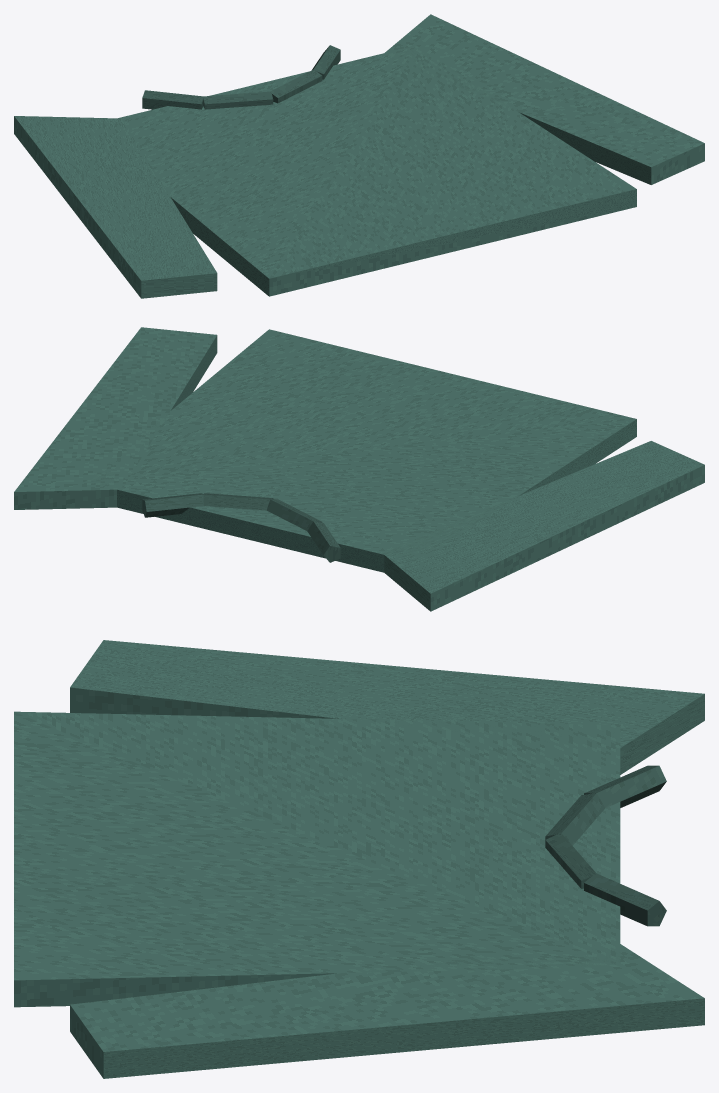
The model's file is rashguard.glb.
3 views of the same model, one above another, from view 1: azimuth 30°, elevation 25°; view 2: azimuth 150°, elevation 25°; view 3: azimuth 270°, elevation 25° (orthographic). The views are drawn at different scales.
Visible parts, largest first — view 1: block_shirt torso, block_sleeve or strap -1, block_sleeve or strap 1, block_bound collar 1, block_bound collar 0, block_bound collar 2, block_bound collar 3; view 2: block_shirt torso, block_sleeve or strap -1, block_sleeve or strap 1, block_bound collar 3, block_bound collar 2, block_bound collar 0, block_bound collar 1; view 3: block_shirt torso, block_sleeve or strap 1, block_sleeve or strap -1, block_bound collar 3, block_bound collar 0, block_bound collar 1, block_bound collar 2.
Boxes of the visible parts, x1=… form: block_shirt torso: x1=118, y1=45, x2=636, y2=296; block_sleeve or strap -1: x1=14, y1=116, x2=217, y2=298; block_sleeve or strap 1: x1=385, y1=14, x2=704, y2=184; block_bound collar 1: x1=203, y1=91, x2=273, y2=109; block_bound collar 0: x1=142, y1=90, x2=203, y2=109; block_bound collar 2: x1=270, y1=69, x2=322, y2=103; block_bound collar 3: x1=312, y1=45, x2=340, y2=79; block_shirt torso: x1=86, y1=329, x2=636, y2=572; block_sleeve or strap -1: x1=382, y1=441, x2=704, y2=611; block_sleeve or strap 1: x1=14, y1=327, x2=217, y2=509; block_bound collar 3: x1=142, y1=493, x2=203, y2=517; block_bound collar 2: x1=203, y1=493, x2=273, y2=510; block_bound collar 0: x1=307, y1=521, x2=340, y2=562; block_bound collar 1: x1=266, y1=499, x2=322, y2=530; block_shirt torso: x1=14, y1=711, x2=620, y2=1007; block_sleeve or strap 1: x1=70, y1=944, x2=704, y2=1078; block_sleeve or strap -1: x1=70, y1=640, x2=704, y2=774; block_bound collar 3: x1=584, y1=873, x2=666, y2=926; block_bound collar 0: x1=584, y1=765, x2=666, y2=807; block_bound collar 1: x1=545, y1=792, x2=605, y2=845; block_bound collar 2: x1=545, y1=832, x2=596, y2=888.
Bounding box in the file's own units: 0.46 × 0.0207 × 0.326.
1 material, 1 textured.
